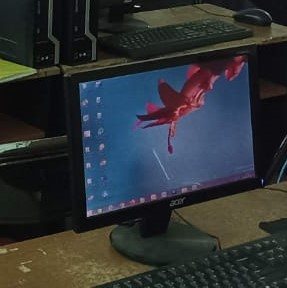monitor: (66, 48, 263, 260), (96, 0, 206, 33)
